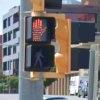traffic lights: (24, 14, 58, 73)
